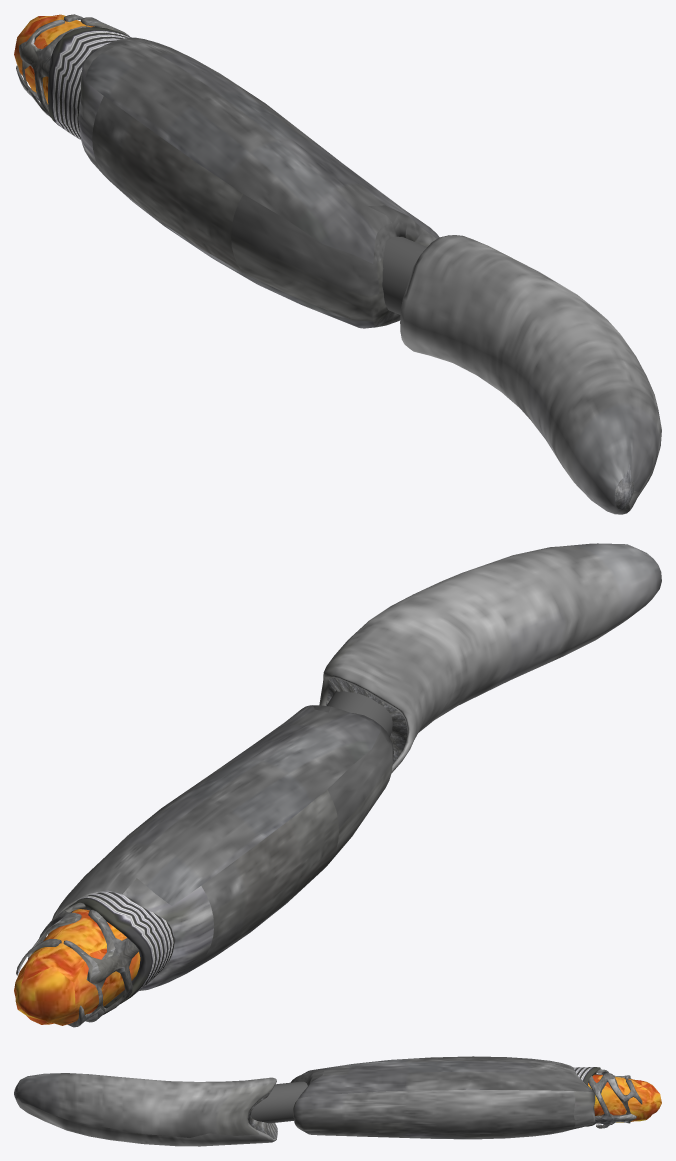
3 renders of one model, top to bottom at view 1: azimuth 30°, elevation 25°; view 2: azimuth 150°, elevation 25°; view 3: azimuth 270°, elevation 25°, orthographic. The views are drawn at different scales.
Visible parts, largest first — view 1: Body1, Led; view 2: Body1, Led; view 3: Body1, Led.
Boxes of the visible parts, <box> form: Body1: <box>16,14,661,514</box>; Led: <box>14,14,94,104</box>; Body1: <box>16,543,661,1027</box>; Led: <box>14,909,140,1025</box>; Body1: <box>14,1056,642,1146</box>; Led: <box>588,1074,661,1122</box>.
Size of the model in its own units: 0.0269 by 0.0201 by 0.157.
Materials: 6 (5 with a texture image).
